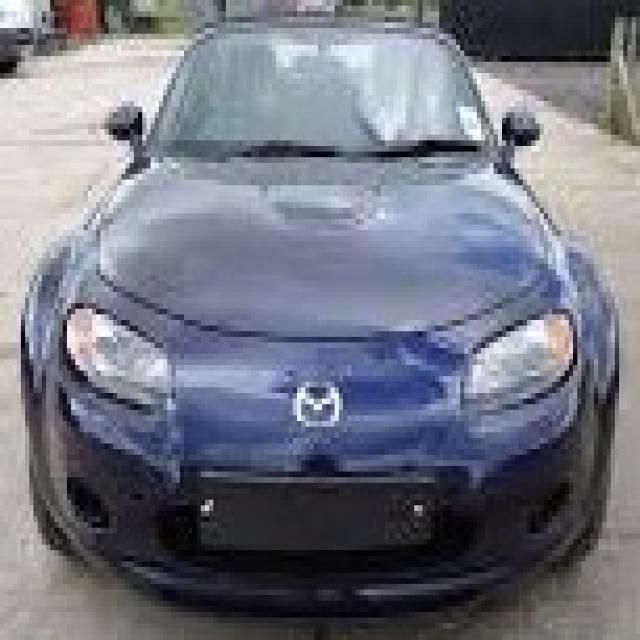minor: (274, 320, 476, 470)
